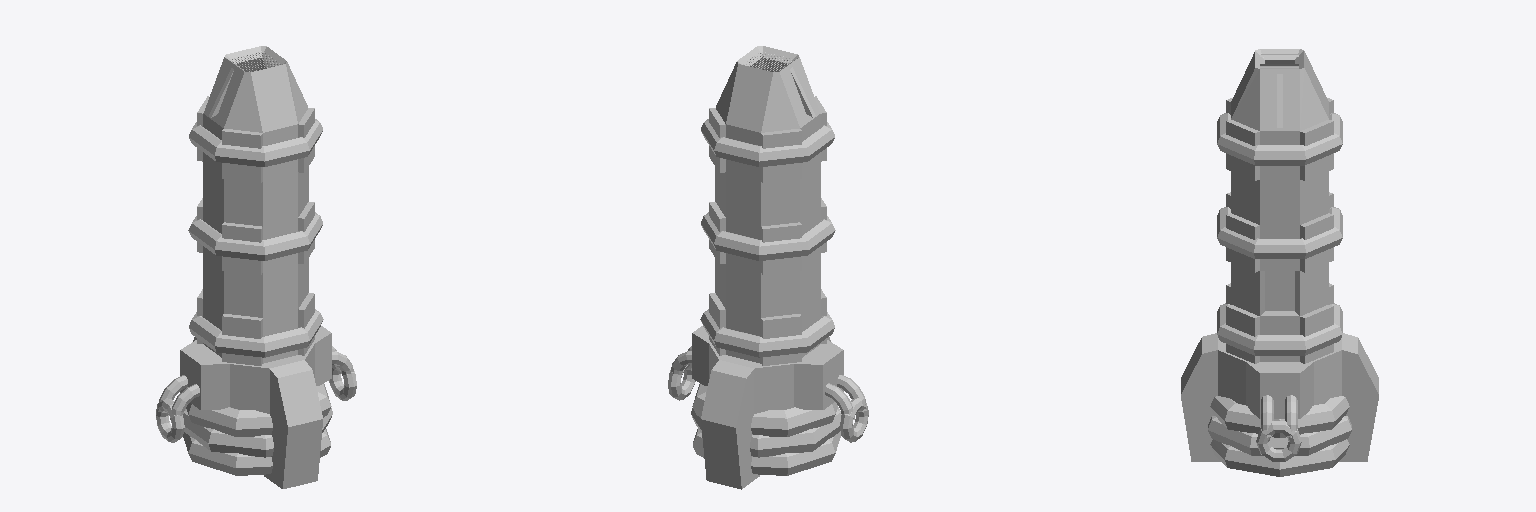
The model's file is electric_rocket.obj.
The picture shows the model from 3 angles: view 1: azimuth 30°, elevation 25°; view 2: azimuth 150°, elevation 25°; view 3: azimuth 270°, elevation 25°; orthographic projection.
Parts seen in each view (by area): view 1: Tube001, Torus006, Torus007, Torus008, Torus001, Torus003, Torus002, Torus005, Torus004; view 2: Tube001, Torus006, Torus007, Torus008, Torus001, Torus003, Torus002, Torus005, Torus004; view 3: Tube001, Torus008, Torus007, Torus006, Torus001, Torus003, Torus002, Torus004.
Part boxes in pixels (x1,y1,x2,y2): Tube001: (180,46,331,488); Torus006: (189,309,323,357); Torus007: (188,212,322,260); Torus008: (189,119,322,166); Torus001: (186,384,331,436); Torus003: (183,429,330,475); Torus002: (183,408,332,457); Torus005: (156,398,184,442); Torus004: (329,364,356,400); Tube001: (692,46,843,489); Torus006: (700,309,834,357); Torus007: (701,212,835,260); Torus008: (701,119,834,166); Torus001: (692,384,837,436); Torus003: (693,429,840,475); Torus002: (691,407,841,457); Torus005: (840,398,868,442); Torus004: (668,364,695,400); Tube001: (1181,49,1378,461); Torus008: (1217,113,1342,165); Torus007: (1217,207,1342,258); Torus006: (1217,303,1342,355); Torus001: (1210,396,1349,437); Torus003: (1210,439,1349,476); Torus002: (1208,416,1351,455); Torus004: (1256,421,1301,461).
Bounding box in the file's own units: 2.53 × 5.17 × 2.36.